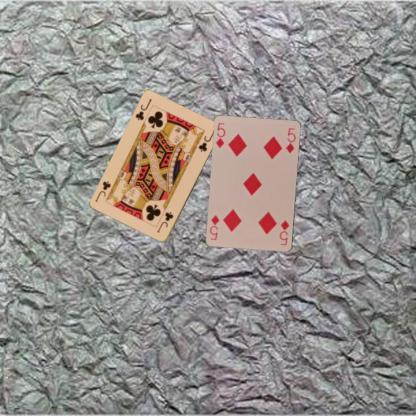5d: (276, 218, 290, 247), (214, 120, 226, 150)
Jc: (133, 96, 153, 122), (154, 210, 174, 234)
